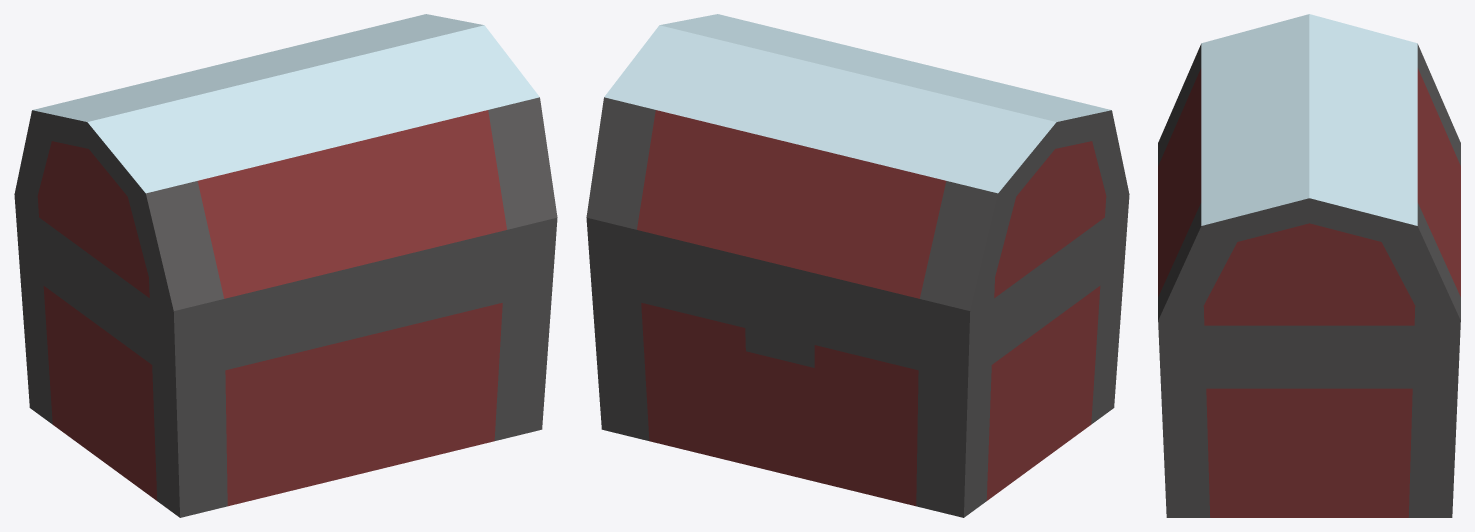
Rendered from SM_Prop_TreasureChest_Closed_01_Snow.fbx.
The picture shows the model from 3 angles, left to right: view 1: azimuth 30°, elevation 25°; view 2: azimuth 150°, elevation 25°; view 3: azimuth 270°, elevation 25°; orthographic projection. The views are drawn at different scales.
Visible parts, largest first — view 1: SM_Prop_TreasureChest_Closed_01_Snow; view 2: SM_Prop_TreasureChest_Closed_01_Snow; view 3: SM_Prop_TreasureChest_Closed_01_Snow.
Boxes of the visible parts, left/top/right/bottom form: SM_Prop_TreasureChest_Closed_01_Snow: left=14, top=14, right=557, bottom=517; SM_Prop_TreasureChest_Closed_01_Snow: left=586, top=14, right=1129, bottom=517; SM_Prop_TreasureChest_Closed_01_Snow: left=1158, top=14, right=1460, bottom=517.
Bounding box in the file's own units: 65.06 × 54.02 × 45.2.
1 material, 1 textured.
